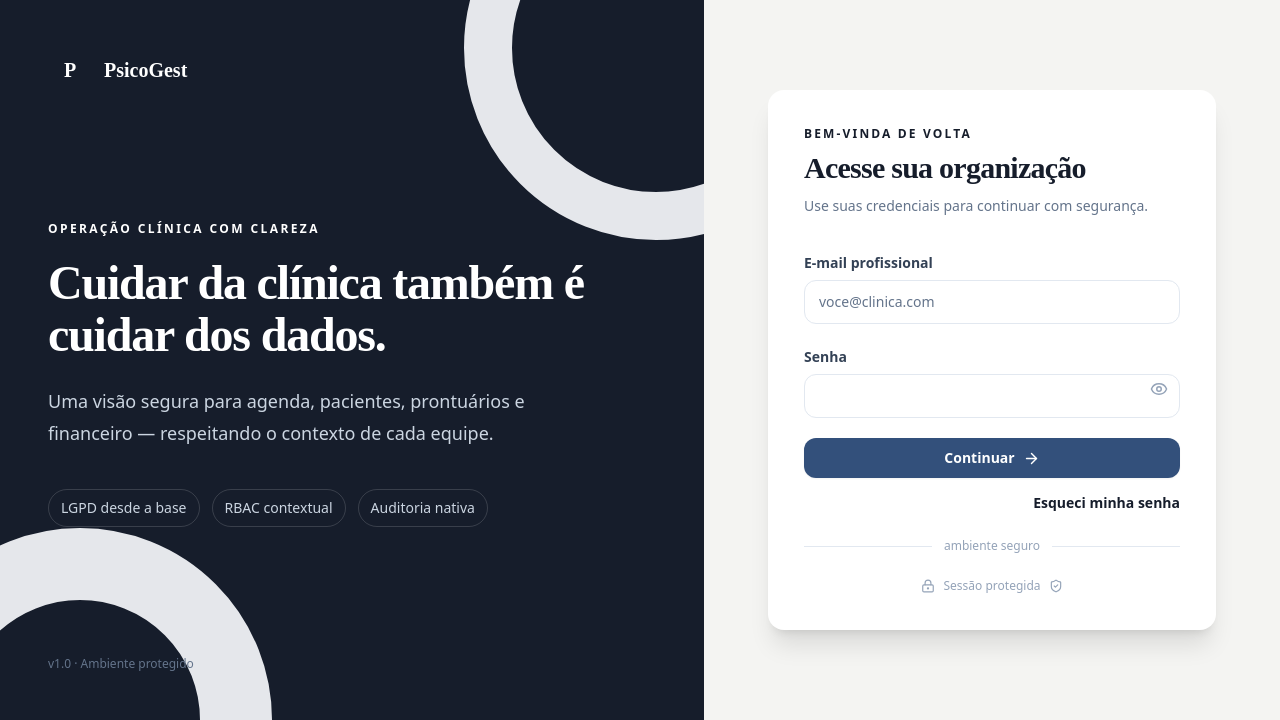
Test: LoginPage › moves a valid backend login to the MFA step
Type "clinica@example.com" into the field labelled "E-mail profissional" at (992, 302), box [804, 280, 1180, 324]
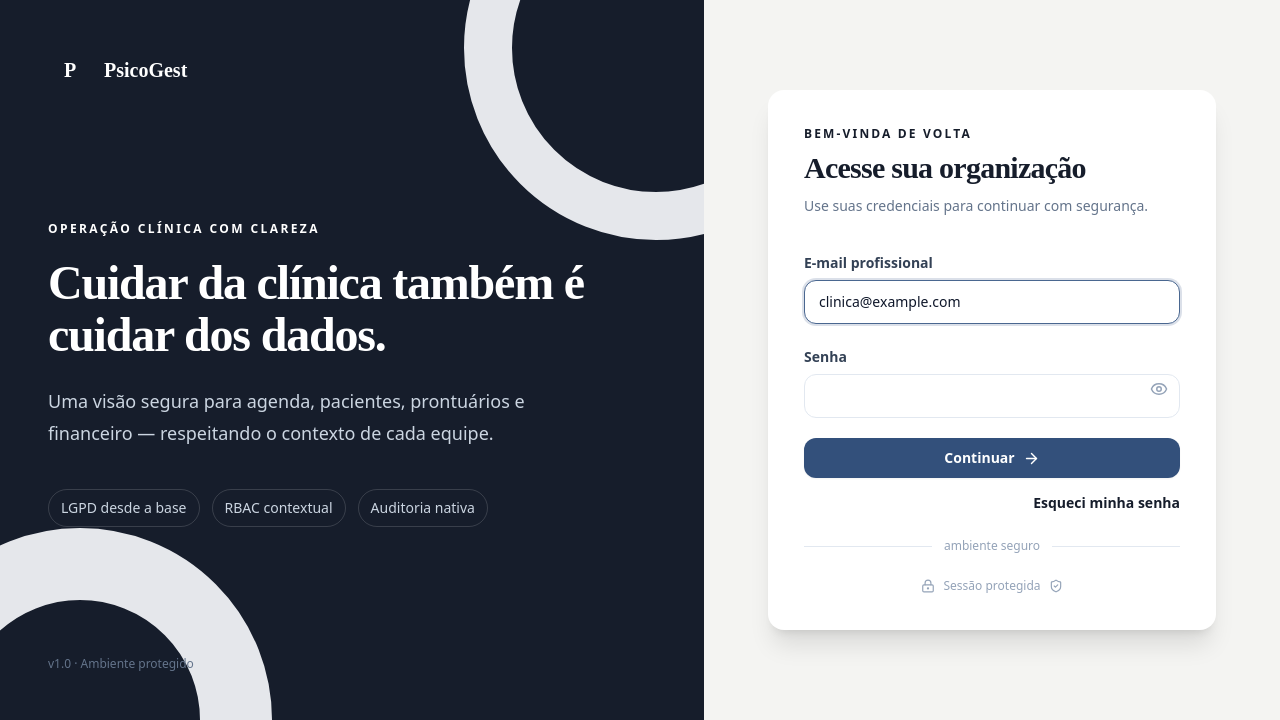
Type "senha-segura" into the password field labelled "Senha" at (992, 396), box [804, 374, 1180, 418]
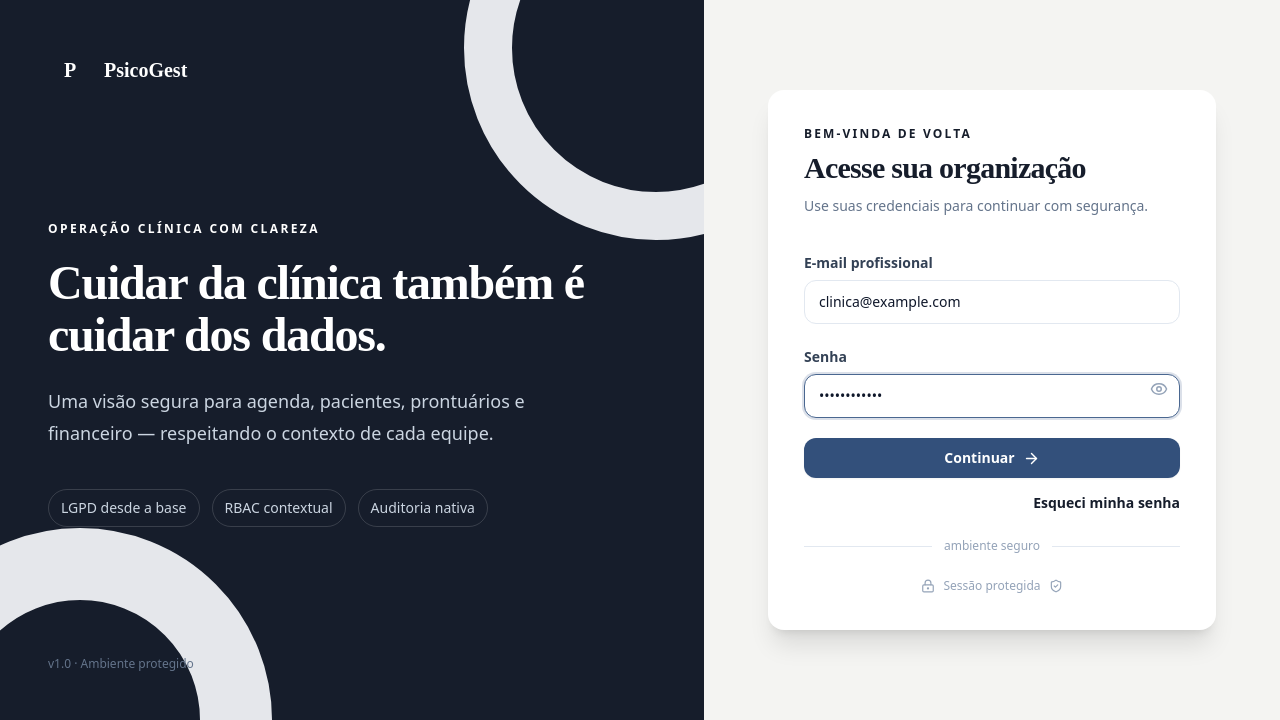
Click the button "Continuar" at (992, 458), box [804, 438, 1180, 478]
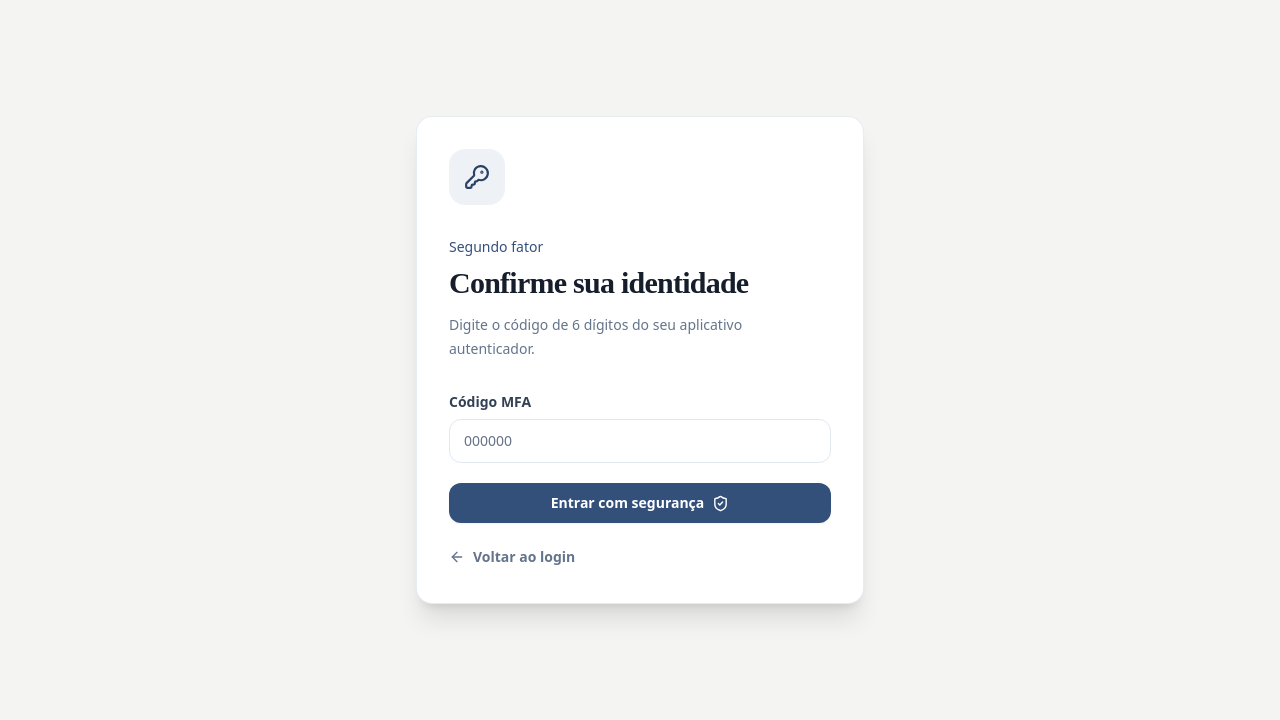
expect the text "Segundo fator" is shown: met, box [449, 237, 543, 256]
expect the field labelled "Código MFA" is shown: met, box [449, 419, 831, 463]
